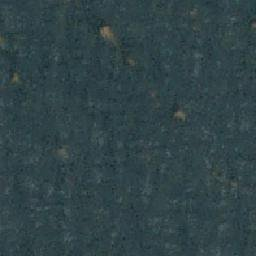debris: (100, 24, 117, 45)
